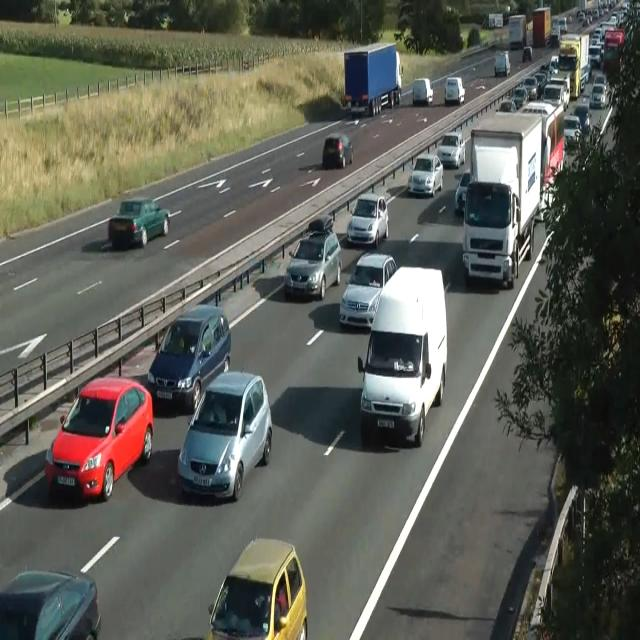bus: (205, 536, 308, 639), (0, 568, 102, 639), (338, 251, 398, 328), (284, 228, 342, 300), (108, 197, 170, 249), (346, 192, 389, 247), (406, 153, 444, 196), (322, 132, 353, 170), (436, 132, 466, 168), (300, 211, 334, 238), (455, 169, 471, 213), (412, 77, 434, 106), (564, 114, 582, 148), (444, 76, 465, 105), (572, 105, 592, 134), (588, 82, 608, 109), (517, 76, 539, 100), (506, 86, 528, 110), (494, 50, 510, 76), (496, 99, 516, 113), (558, 17, 568, 34), (522, 46, 532, 61)
jeep: (357, 265, 447, 447), (44, 375, 154, 501), (177, 369, 273, 501), (147, 303, 231, 412)
minibus: (462, 112, 542, 288), (516, 100, 564, 220), (343, 42, 403, 116), (558, 33, 591, 97), (532, 6, 552, 47), (508, 14, 526, 49), (488, 12, 503, 28)
